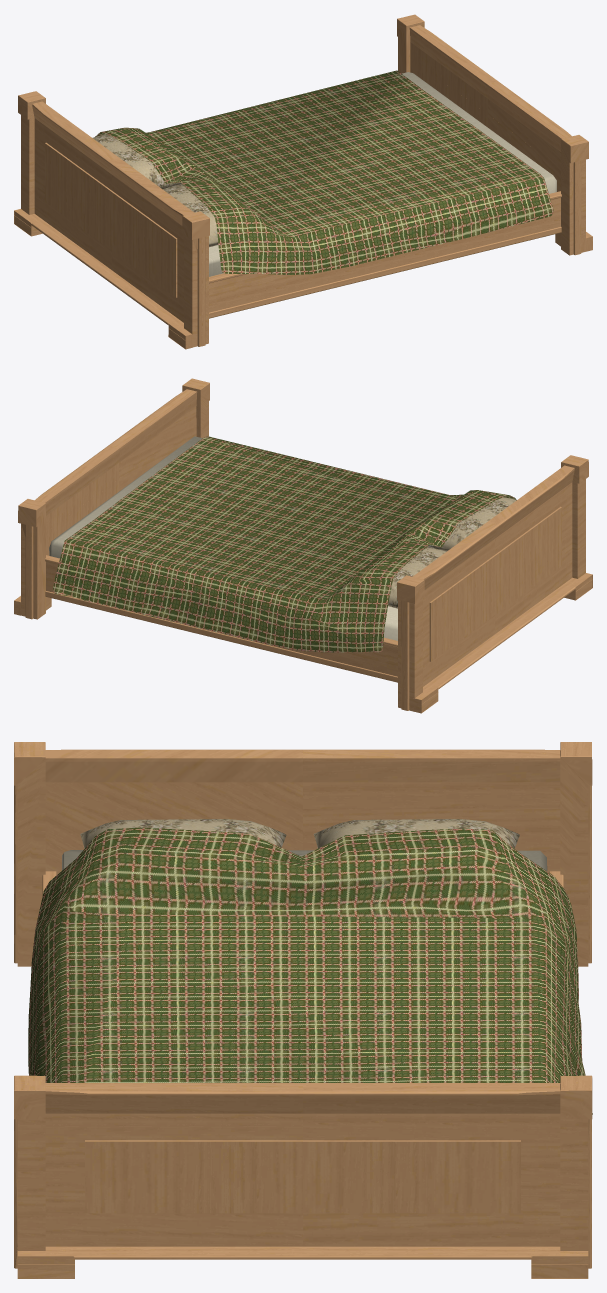
File: Bed.fbx
The picture shows the model from 3 angles, top to bottom: view 1: azimuth 30°, elevation 25°; view 2: azimuth 150°, elevation 25°; view 3: azimuth 270°, elevation 25°; orthographic projection. The views are drawn at different scales.
Visible parts, largest first — view 1: covering, body, mattress, pillow_2, pillow_1; view 2: covering, body, mattress, pillow_1, pillow_2; view 3: body, covering, pillow_2, pillow_1.
Boxes of the visible parts, left/top/right/bottom form: covering: left=95, top=70, right=553, bottom=274; body: left=14, top=14, right=592, bottom=349; mattress: left=209, top=72, right=556, bottom=276; pillow_2: left=93, top=134, right=181, bottom=189; pillow_1: left=163, top=184, right=218, bottom=247; covering: left=53, top=436, right=516, bottom=652; body: left=14, top=378, right=592, bottom=713; mattress: left=49, top=436, right=397, bottom=640; pillow_1: left=427, top=497, right=516, bottom=551; pillow_2: left=388, top=547, right=446, bottom=608; body: left=14, top=742, right=592, bottom=1278; covering: left=28, top=827, right=592, bottom=1114; pillow_2: left=313, top=819, right=519, bottom=848; pillow_1: left=80, top=819, right=286, bottom=848.
Size of the model in its own units: 440 by 131 by 326.
Materials: 4 (4 with a texture image).
